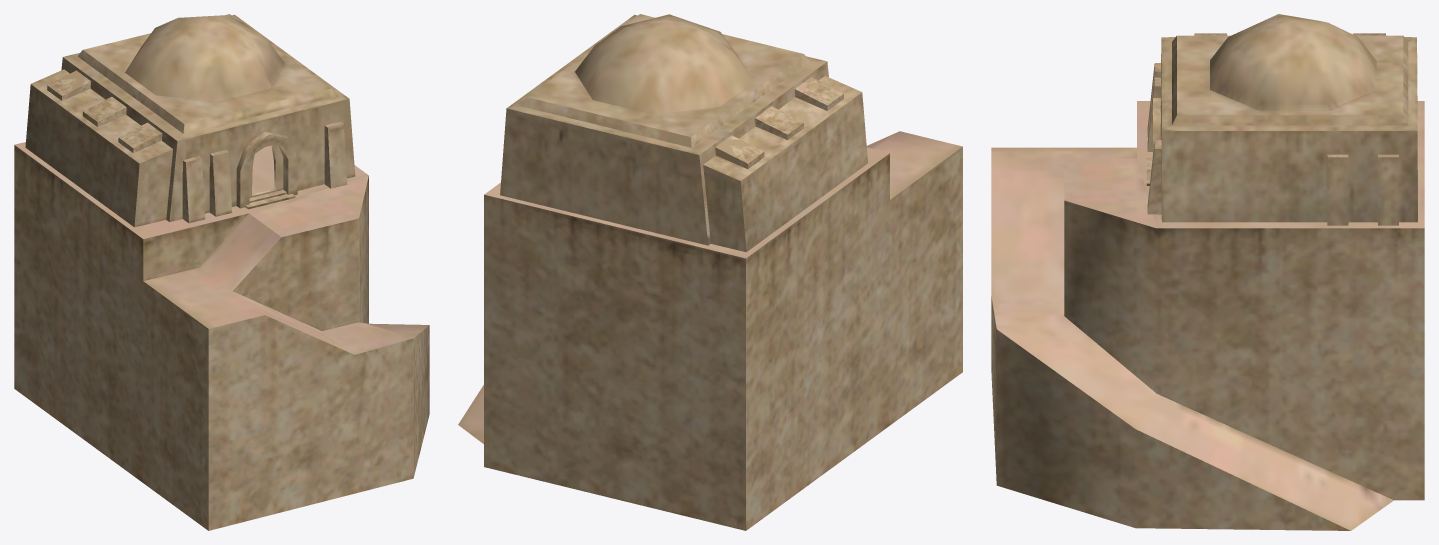
The model's file is ply_tato_house_sm_s02_fp1_r0_mesh_l3.fbx.
3 renders of one model, left to right at view 1: azimuth 30°, elevation 25°; view 2: azimuth 150°, elevation 25°; view 3: azimuth 270°, elevation 25°, orthographic. The views are drawn at different scales.
Visible parts, largest first — view 1: mesh_node; view 2: mesh_node; view 3: mesh_node.
Boxes of the visible parts, x1,y1,x2,y2 form: mesh_node: (14,14,429,530); mesh_node: (458,14,962,530); mesh_node: (991,14,1424,530).
Size of the model in its own units: 20.58 by 25.64 by 23.82.
1 material, 1 textured.
